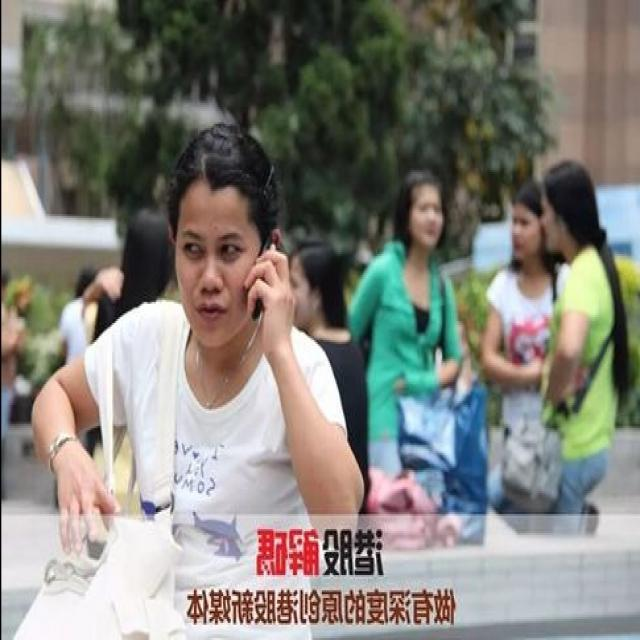phone: (210, 208, 292, 348)
